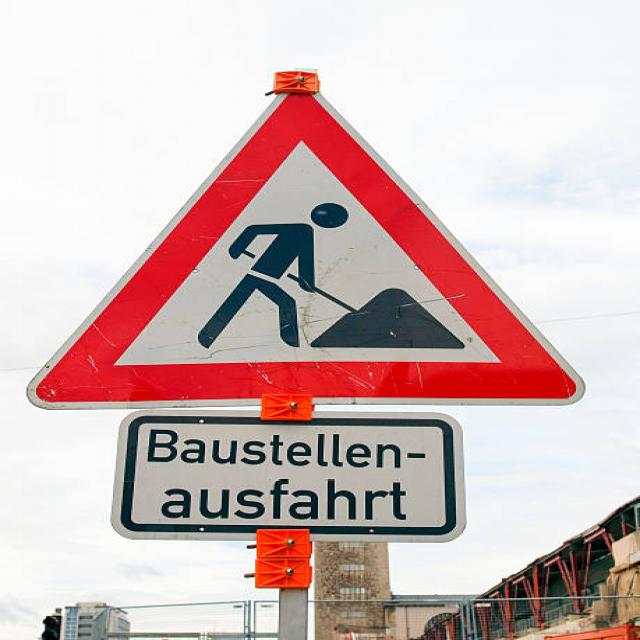road_work: (6, 73, 593, 414)
